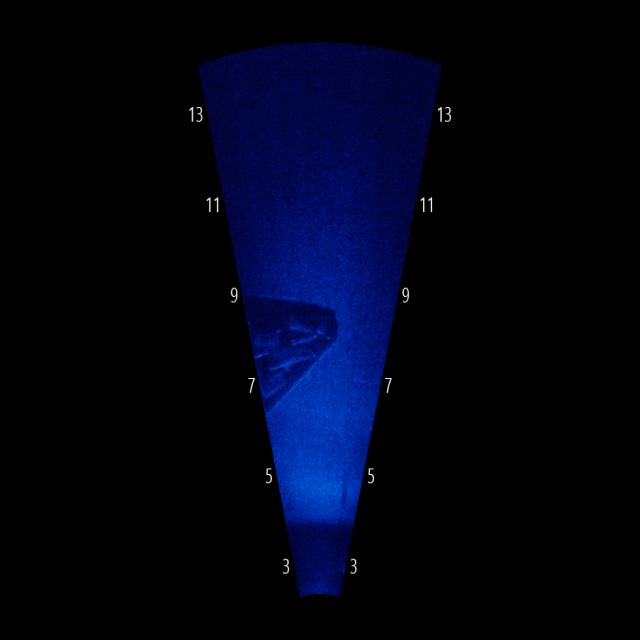triangle: (250, 298, 338, 414)
